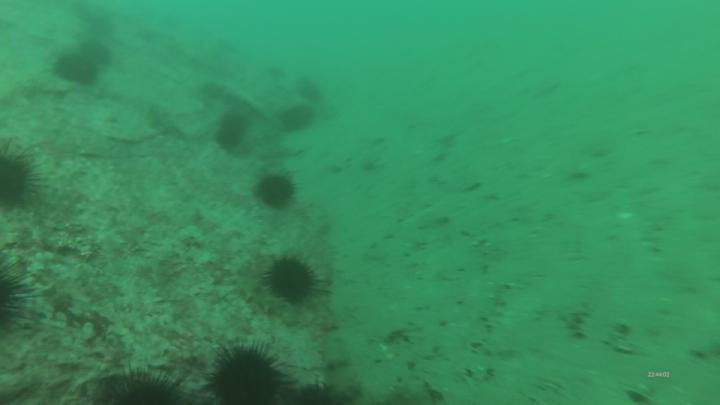echinus: (205, 338, 290, 405), (1, 138, 50, 222), (94, 368, 201, 405), (263, 252, 328, 309), (1, 254, 36, 342), (251, 172, 299, 213), (51, 53, 104, 89), (286, 383, 355, 405), (213, 111, 249, 153), (73, 36, 118, 68), (279, 103, 317, 138), (296, 84, 324, 109)
holothurian: (226, 270, 295, 325)
